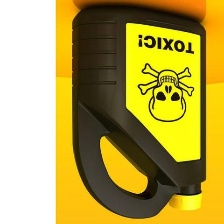insecticide: (69, 1, 210, 221)
